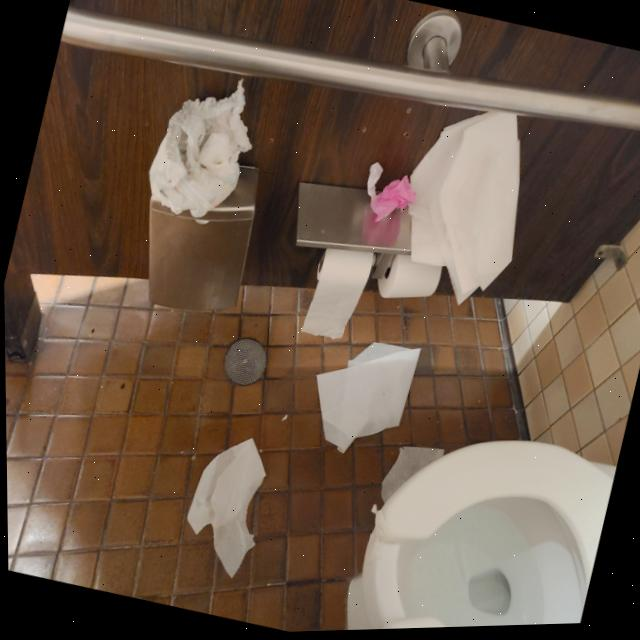garbage: (125, 64, 280, 237), (162, 411, 286, 589), (294, 322, 427, 472), (352, 146, 421, 233)
